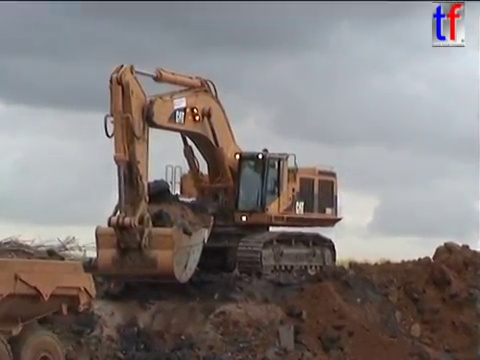excavator: (90, 59, 346, 288)
truck: (1, 252, 98, 360)
